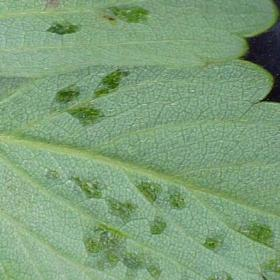Angular Leafspot: (34, 0, 279, 279)
